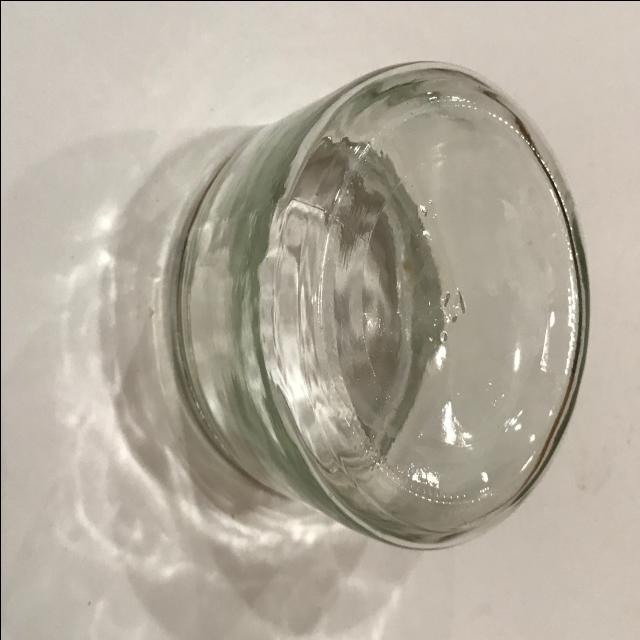glass: (166, 66, 596, 558)
